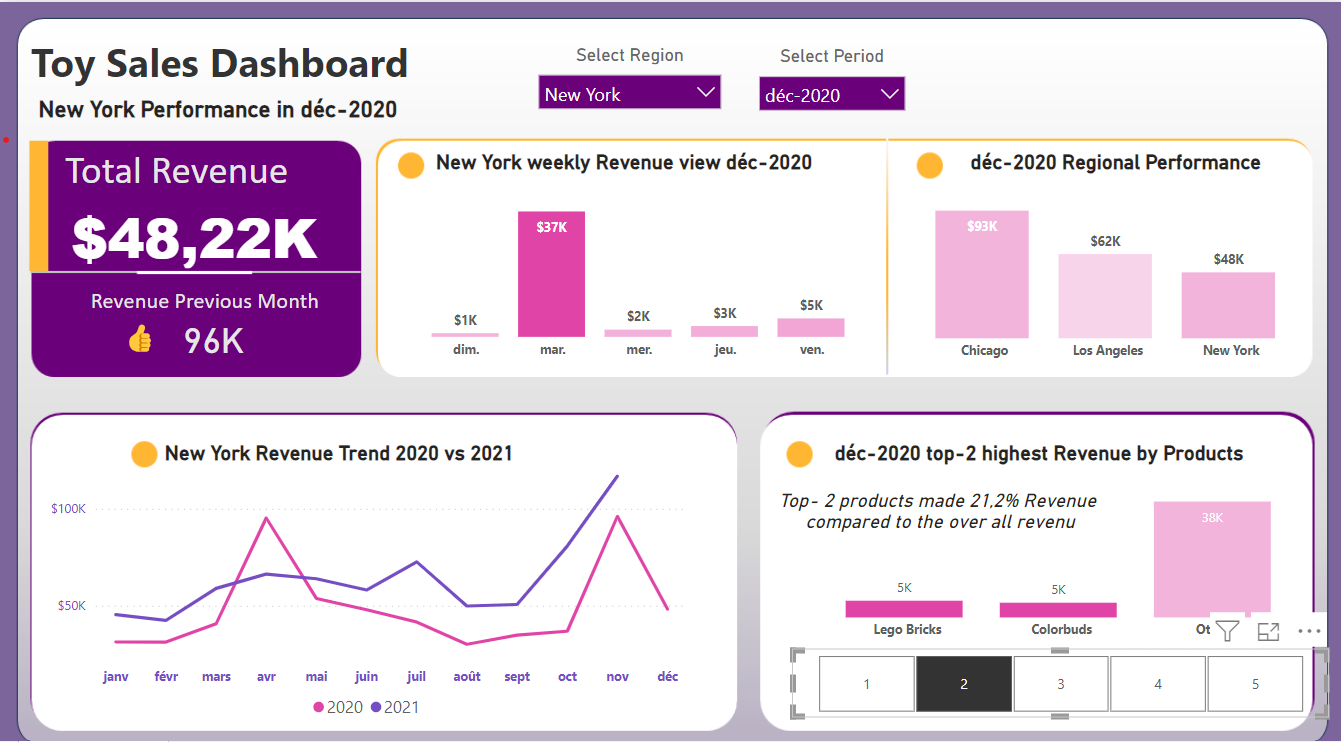

What the dashboard file says about the page in this screenshot:
{"tool":"powerbi","page":{"name":"Dashboard","canvas":[1280,720],"ordinal":0},"visuals":[{"type":"columnChart","fields":{"Category":["Our Products.Product Name"],"Y":["Our Products.Dynamic Top Revenue"]},"box":[741.7,455,538.3,160],"z":0},{"type":"card","fields":{"Values":["All measures.Total Revenue"]},"box":[48,184,272,74],"z":1000},{"type":"slicer","fields":{"Values":["Top Selection.Value"]},"box":[754.5,615.2,510.6,66.7],"z":2000},{"type":"card","fields":{"Values":["Our Products.% Top Selection"]},"box":[722.7,451.5,339.4,66.7],"z":3000},{"type":"card","fields":{"Values":["All measures.Previous Revenue"]},"box":[150.4,292.6,106,52],"z":4000},{"type":"slicer","title":"Select Region","fields":{"Values":["Region Lookup.Region"]},"box":[502.8,40.2,194,73.1],"z":5000},{"type":"card","fields":{"Values":["All measures.Thumbs"]},"box":[106.4,296.6,52,46],"z":6000},{"type":"slicer","title":"Select Period","fields":{"Values":["Calendar.YM Combined"]},"box":[712.7,41.8,159,74.7],"z":7000},{"type":"card","fields":{"Values":["Our Products.Current View Caption"]},"box":[17.5,81.1,414.8,31.8],"z":8000},{"type":"textbox","box":[18.2,25.8,381.8,60.6],"z":9000},{"type":"textbox","box":[22,132,294,56],"z":10000},{"type":"textbox","box":[42.4,265.2,304.5,53],"z":11000},{"type":"columnChart","fields":{"Category":["Region Lookup.Region"],"Y":["All measures.Total Revenue"]},"box":[838.3,176.4,432.3,174.2],"z":12000},{"type":"columnChart","fields":{"Category":["Calendar.weekdays"],"Y":["All measures.Total Revenue"]},"box":[372.7,174.2,471.2,174.2],"z":13000},{"type":"lineChart","fields":{"Category":["Calendar.Month"],"Y":["All measures.Total Revenue"],"Series":["Calendar.Year"]},"box":[42.4,431.8,616.7,260.6],"z":14000},{"type":"card","fields":{"Values":["All measures.Trend Title"]},"box":[122.7,406.1,400,47],"z":15000},{"type":"card","fields":{"Values":["All measures.Top products Title"]},"box":[777.3,410.6,424.2,37.9],"z":16000},{"type":"card","fields":{"Values":["All measures.Weekly Trend Title"]},"box":[372.7,128.8,442.4,47],"z":17000},{"type":"card","fields":{"Values":["All measures.Regional Title"]},"box":[871.2,125.8,381.8,53],"z":18000}]}

Visuals, with their boxes in screenshot pixels (x1, y1, x2, y2), scaled from the page's 1280x720 canvas onto the 1341x742 screenshot:
columnChart - Our Products.Product Name x Our Products.Dynamic Top Revenue: left=777, top=469, right=1340, bottom=634
card - All measures.Total Revenue: left=50, top=190, right=335, bottom=266
slicer - Top Selection.Value: left=790, top=634, right=1325, bottom=703
card - Our Products.% Top Selection: left=757, top=465, right=1113, bottom=534
card - All measures.Previous Revenue: left=158, top=302, right=269, bottom=355
"Select Region" slicer: left=527, top=41, right=730, bottom=117
card - All measures.Thumbs: left=111, top=306, right=166, bottom=353
"Select Period" slicer: left=747, top=43, right=913, bottom=120
card - Our Products.Current View Caption: left=18, top=84, right=453, bottom=116
textbox: left=19, top=27, right=419, bottom=89
textbox: left=23, top=136, right=331, bottom=194
textbox: left=44, top=273, right=363, bottom=328
columnChart - Region Lookup.Region x All measures.Total Revenue: left=878, top=182, right=1331, bottom=361
columnChart - Calendar.weekdays x All measures.Total Revenue: left=390, top=180, right=884, bottom=359
lineChart - Calendar.Month x All measures.Total Revenue: left=44, top=445, right=691, bottom=714
card - All measures.Trend Title: left=129, top=419, right=548, bottom=467
card - All measures.Top products Title: left=814, top=423, right=1259, bottom=462
card - All measures.Weekly Trend Title: left=390, top=133, right=854, bottom=181
card - All measures.Regional Title: left=913, top=130, right=1313, bottom=184
